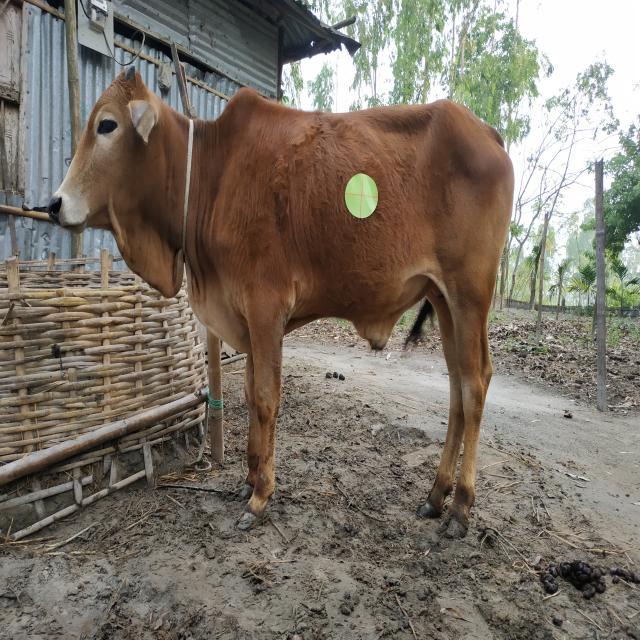badan_sapi: (219, 103, 500, 330)
sapi: (43, 48, 528, 544)
